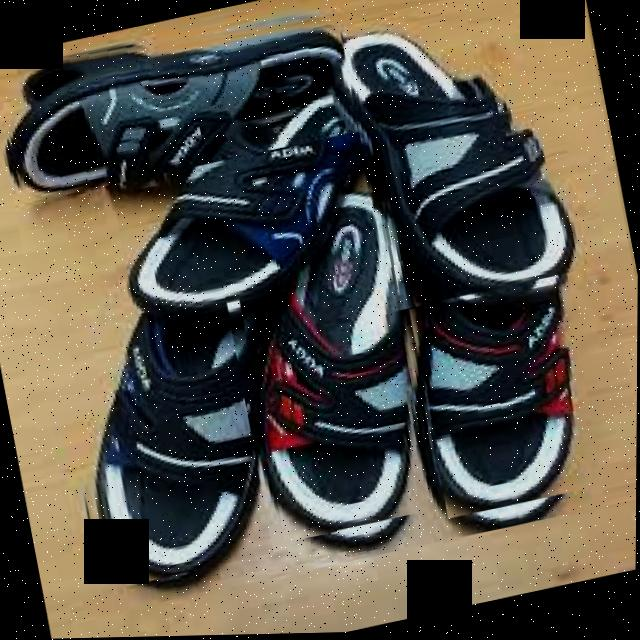shoe: (0, 0, 621, 620), (311, 0, 598, 320), (224, 190, 446, 545), (88, 71, 388, 331), (0, 10, 360, 205), (54, 300, 277, 593), (408, 277, 610, 521)
